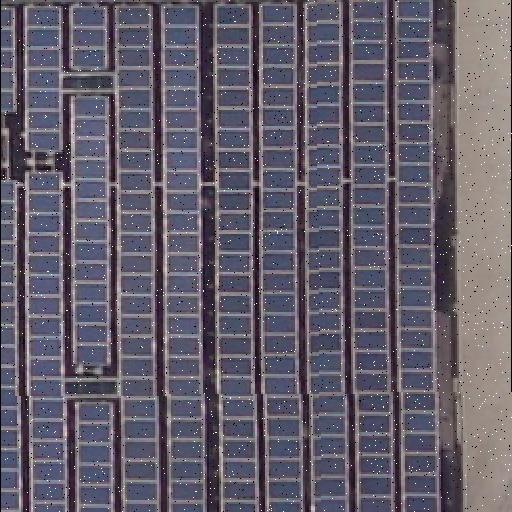solar-panel: (212, 0, 304, 512), (392, 0, 440, 512), (301, 0, 347, 512), (116, 0, 160, 512), (162, 0, 206, 512), (348, 0, 392, 512), (24, 169, 68, 511), (71, 97, 113, 367), (1, 177, 23, 511), (23, 2, 65, 154), (75, 401, 117, 511), (67, 2, 109, 70), (0, 1, 16, 111)
